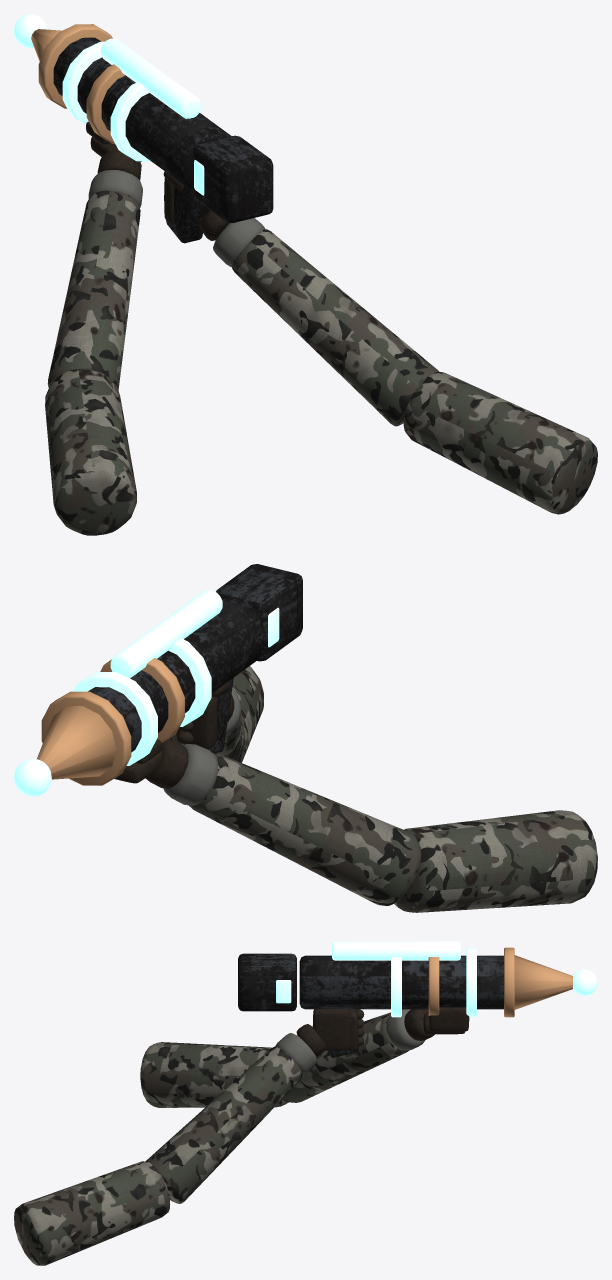
The model's file is vm_volt.glb.
3 views of the same model, one above another, from view 1: azimuth 30°, elevation 25°; view 2: azimuth 150°, elevation 25°; view 3: azimuth 270°, elevation 25° (orthographic). The views are drawn at different scales.
Visible parts, largest first — view 1: UpperArmR, ForearmR, UpperArmL, ForearmL, Body, Battery, Tube, Coil3, Grip, Coil2, Coil0, CuffR (+4 smaller); view 2: UpperArmL, ForearmL, Body, Emitter, Battery, Tube, Coil3, Coil2, CuffL, UpperArmR, Coil1, Coil0 (+6 smaller); view 3: UpperArmR, Body, ForearmR, UpperArmL, ForearmL, Battery, Tube, Emitter, PalmR, FingersL, CuffR, CuffL (+7 smaller).
Boxes of the visible parts, bbox=[...] form: UpperArmR: bbox=[403, 371, 597, 514]; ForearmR: bbox=[231, 229, 438, 426]; UpperArmL: bbox=[45, 368, 136, 535]; ForearmL: bbox=[47, 190, 140, 390]; Body: bbox=[53, 37, 231, 190]; Battery: bbox=[193, 135, 273, 222]; Tube: bbox=[101, 38, 201, 118]; Coil3: bbox=[38, 24, 112, 108]; Grip: bbox=[166, 185, 203, 243]; Coil2: bbox=[62, 41, 104, 124]; Coil0: bbox=[110, 82, 150, 161]; CuffR: bbox=[213, 218, 265, 266]; UpperArmL: bbox=[394, 810, 597, 912]; ForearmL: bbox=[189, 753, 421, 905]; Body: bbox=[88, 597, 264, 752]; Emitter: bbox=[37, 706, 116, 779]; Battery: bbox=[216, 564, 302, 661]; Tube: bbox=[110, 590, 222, 678]; Coil3: bbox=[41, 691, 131, 785]; Coil2: bbox=[73, 672, 157, 765]; CuffL: bbox=[163, 743, 218, 805]; UpperArmR: bbox=[232, 666, 263, 762]; Coil1: bbox=[100, 658, 184, 742]; Coil0: bbox=[168, 638, 211, 726]; UpperArmR: bbox=[14, 1161, 169, 1265]; Body: bbox=[299, 955, 503, 1009]; ForearmR: bbox=[145, 1046, 302, 1203]; UpperArmL: bbox=[140, 1042, 288, 1107]; ForearmL: bbox=[282, 1012, 409, 1102]; Battery: bbox=[238, 953, 296, 1011]; Tube: bbox=[332, 941, 460, 960]; Emitter: bbox=[514, 955, 572, 1009]; PalmR: bbox=[312, 1009, 349, 1050]; FingersL: bbox=[429, 1007, 469, 1031]; CuffR: bbox=[275, 1033, 316, 1074]; CuffL: bbox=[386, 1009, 425, 1050].
Size of the model in its own units: 0.7741 by 0.5151 by 1.09.
Materials: 6 (3 with a texture image).
